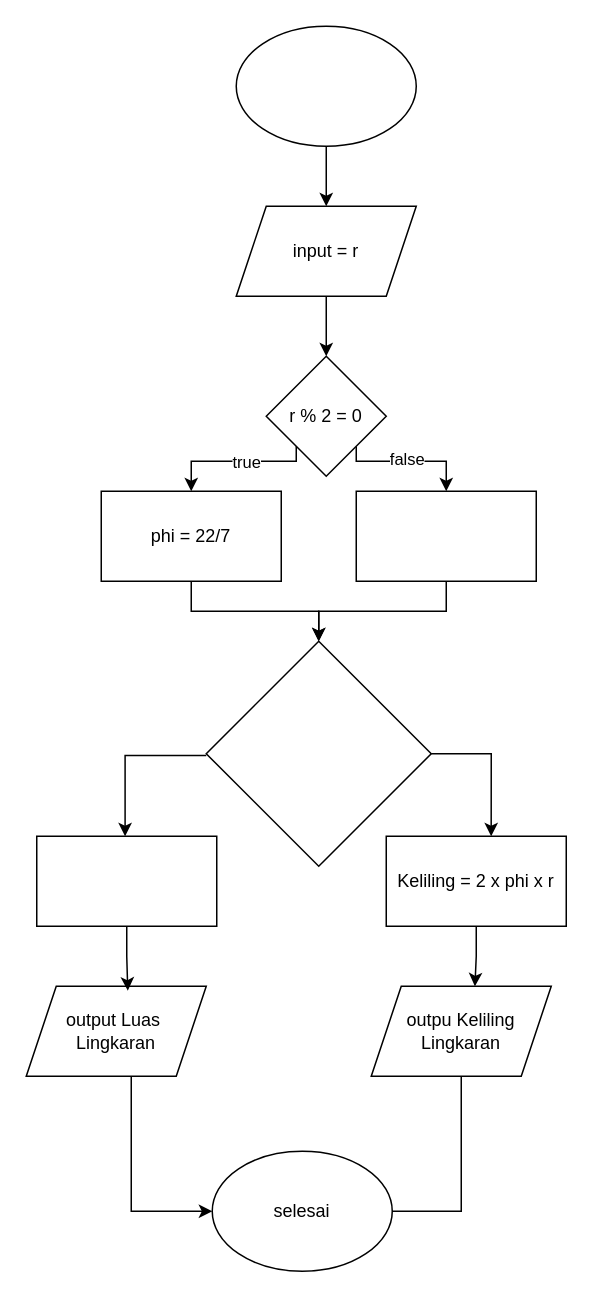
This 593x1298 diagram has some shape labels left out. The centre of each missing label's shape, as x and y in pixels:
"hitung Luas atau Keliling ?" belongs at (x=318, y=753).
"Luas = phi x r x r" belongs at (x=126, y=880).
"mulai" belongs at (x=325, y=85).
"phi = 3.14" belongs at (x=445, y=535).
